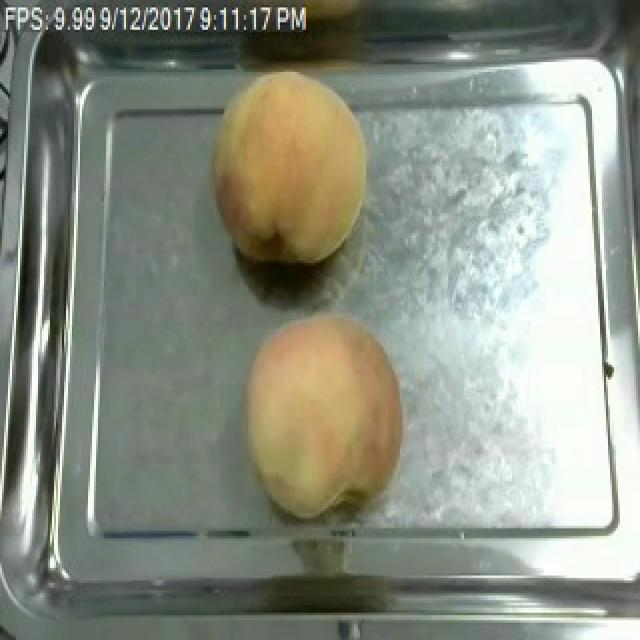Fruit: (234, 305, 412, 526), (202, 67, 378, 273)
